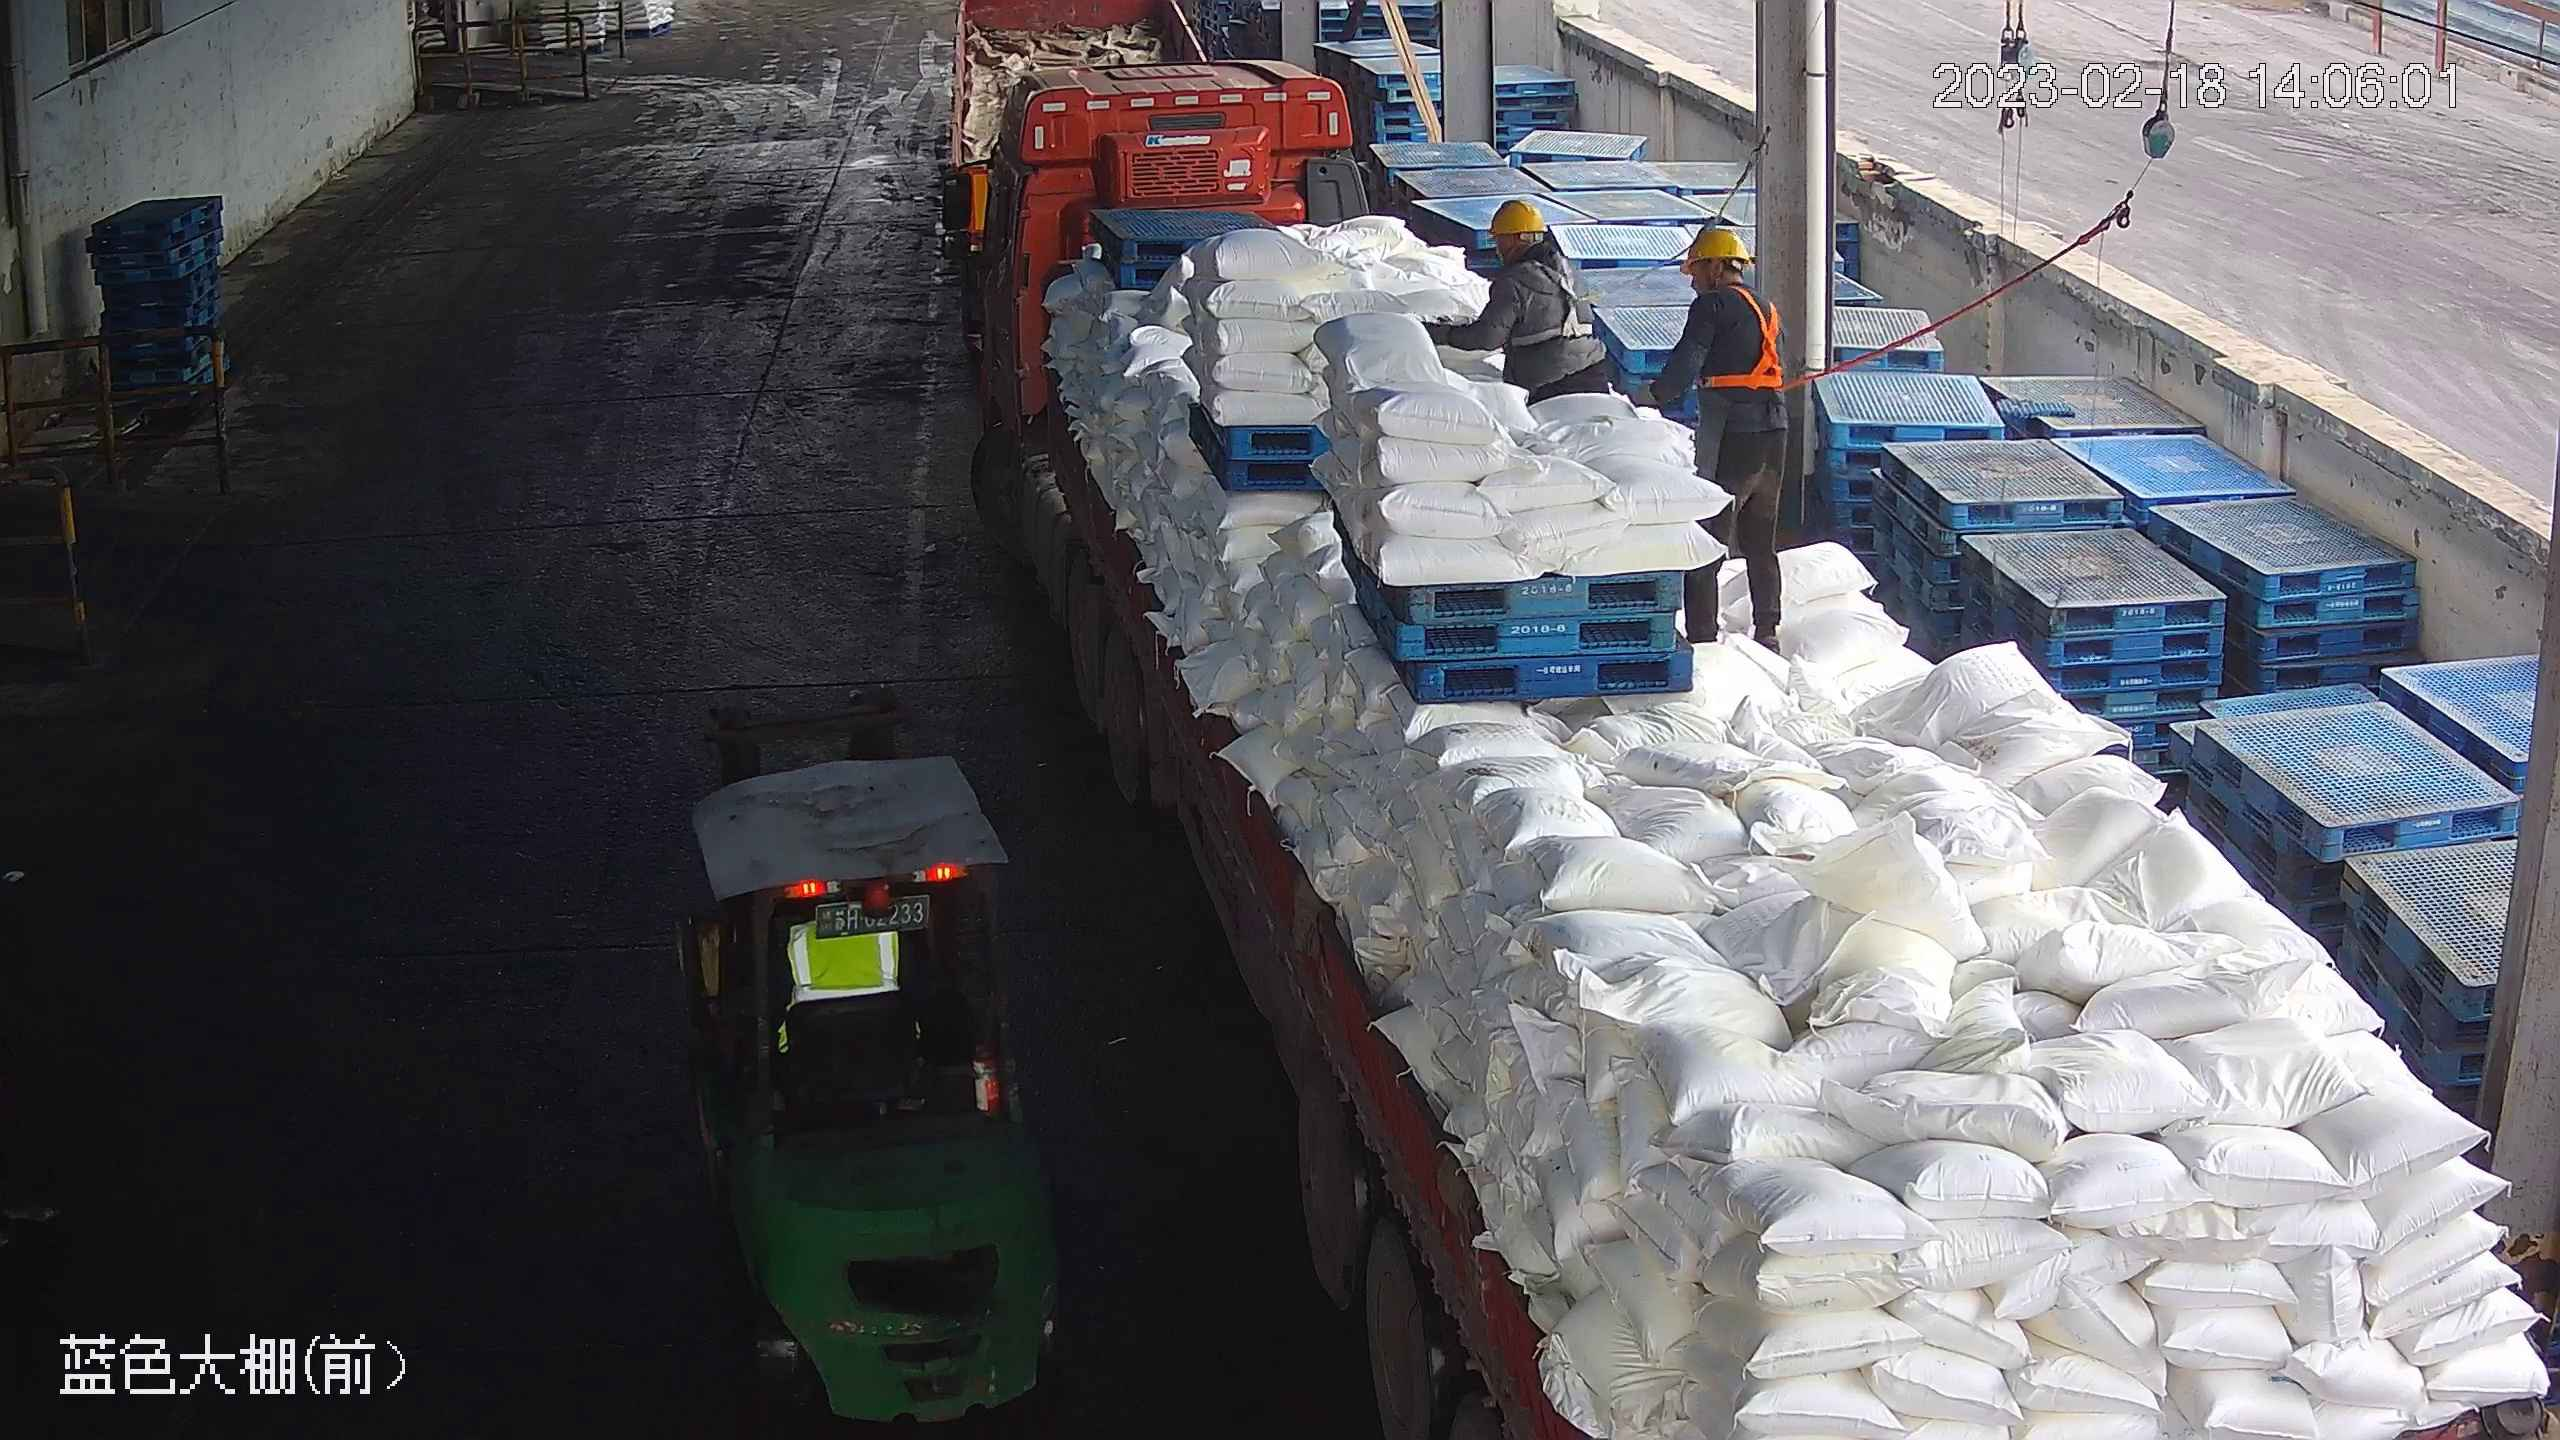belt: (1706, 284, 1804, 396), (1509, 254, 1598, 348)
head: (1669, 223, 1793, 341), (1480, 195, 1578, 300)
helmet: (1678, 223, 1753, 272), (1481, 194, 1547, 240)
people: (1642, 227, 1802, 652), (1428, 193, 1605, 411)
truck: (957, 48, 2548, 1440)
